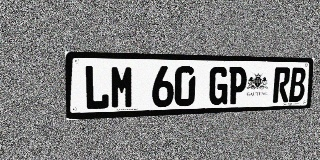0: (174, 66, 196, 107)
6: (152, 66, 174, 107)
B: (289, 67, 306, 102)
G: (208, 66, 229, 105)
L: (84, 65, 109, 110)
M: (110, 65, 134, 109)
P: (228, 67, 247, 104)
R: (272, 67, 291, 103)
